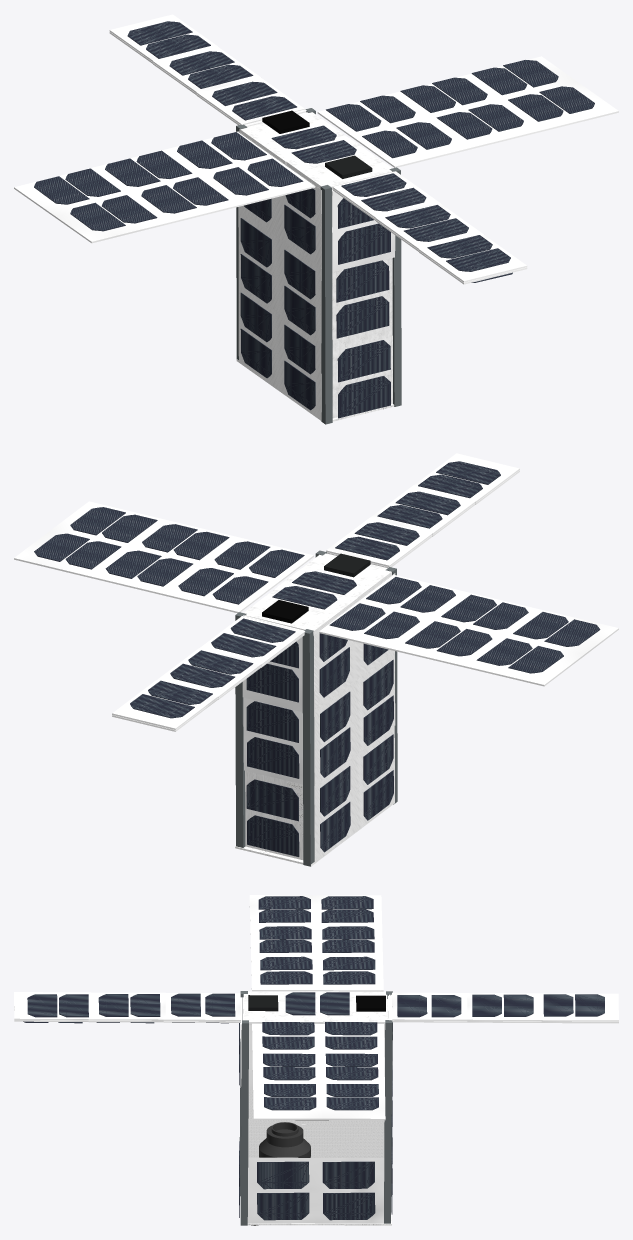
Rendered from 6Uedit.gltf.
3 renders of one model, top to bottom at view 1: azimuth 30°, elevation 25°; view 2: azimuth 150°, elevation 25°; view 3: azimuth 270°, elevation 25°, orthographic. The views are drawn at different scales.
Visible parts, largest first — view 1: CubePanel_8.026_Mesh.004, CubePanel_8.037_Mesh.004, CubePanel_014.002_Mesh.005, Box019.001_Mesh.016, CubePanel_014.008_Mesh.004, CubePanel_014.003_Mesh.005, CubePanel_014.004_Mesh.005, Anetanna_1.003_Mesh.004, SolarPanel_044.001_Mesh.243, SolarPanel_043.001_Mesh.244, Anetanna_1.002_Mesh.004, SolarPanel_043.001_Mesh.245 (+61 smaller); view 2: CubePanel_8.037_Mesh.004, CubePanel_8.026_Mesh.004, Box019.001_Mesh.017, CubePanel_014.002_Mesh.005, CubePanel_014.003_Mesh.005, Anetanna_1.002_Mesh.004, CubePanel_014.004_Mesh.005, SolarPanel_043.001_Mesh.223, SolarPanel_043.001_Mesh.222, SolarPanel_044.001_Mesh.221, SolarPanel_044.001_Mesh.222, Box019.001_Mesh.014 (+60 smaller); view 3: CubePanel_8.037_Mesh.004, CubePanel_8.026_Mesh.004, CubePanel_014.001_Mesh.005, CubePanel_014.002_Mesh.005, Box019.001_Mesh.015, Box019.001_Mesh.014, Main_Lens_Cylinder.008, SolarPanel_044.001_Mesh.199, SolarPanel_043.001_Mesh.199, SolarPanel_043.001_Mesh.200, SolarPanel_044.001_Mesh.198, Anetanna_1.002_Mesh.004 (+49 smaller).
Part boxes in pixels (left/top/right/bottom): CubePanel_8.026_Mesh.004: left=317, top=56, right=618, bottom=167; CubePanel_8.037_Mesh.004: left=14, top=131, right=315, bottom=243; CubePanel_014.002_Mesh.005: left=238, top=285, right=321, bottom=420; Box019.001_Mesh.016: left=320, top=185, right=332, bottom=424; CubePanel_014.008_Mesh.004: left=332, top=258, right=392, bottom=418; CubePanel_014.003_Mesh.005: left=238, top=209, right=321, bottom=342; CubePanel_014.004_Mesh.005: left=238, top=131, right=321, bottom=268; Anetanna_1.003_Mesh.004: left=286, top=138, right=392, bottom=189; SolarPanel_044.001_Mesh.243: left=336, top=296, right=389, bottom=338; SolarPanel_043.001_Mesh.244: left=336, top=260, right=389, bottom=302; Anetanna_1.002_Mesh.004: left=239, top=112, right=356, bottom=164; SolarPanel_043.001_Mesh.245: left=337, top=340, right=390, bottom=382; CubePanel_8.037_Mesh.004: left=319, top=574, right=618, bottom=686; CubePanel_8.026_Mesh.004: left=14, top=501, right=313, bottom=613; Box019.001_Mesh.017: left=302, top=629, right=314, bottom=866; CubePanel_014.002_Mesh.005: left=314, top=726, right=394, bottom=863; CubePanel_014.003_Mesh.005: left=314, top=651, right=395, bottom=785; Anetanna_1.002_Mesh.004: left=243, top=580, right=357, bottom=635; CubePanel_014.004_Mesh.005: left=313, top=573, right=395, bottom=711; SolarPanel_043.001_Mesh.223: left=246, top=779, right=298, bottom=821; SolarPanel_043.001_Mesh.222: left=246, top=701, right=298, bottom=742; SolarPanel_044.001_Mesh.221: left=247, top=737, right=299, bottom=778; SolarPanel_044.001_Mesh.222: left=247, top=815, right=299, bottom=856; Box019.001_Mesh.014: left=235, top=612, right=246, bottom=847; CubePanel_8.037_Mesh.004: left=249, top=895, right=383, bottom=991; CubePanel_8.026_Mesh.004: left=252, top=1023, right=385, bottom=1120; CubePanel_014.001_Mesh.005: left=247, top=1157, right=384, bottom=1223; CubePanel_014.002_Mesh.005: left=248, top=1124, right=384, bottom=1157; Box019.001_Mesh.015: left=240, top=1020, right=248, bottom=1225; Box019.001_Mesh.014: left=384, top=1020, right=392, bottom=1223; Main_Lens_Cylinder.008: left=259, top=1122, right=310, bottom=1157; SolarPanel_044.001_Mesh.199: left=322, top=1161, right=374, bottom=1188; SolarPanel_043.001_Mesh.199: left=257, top=1192, right=309, bottom=1220; SolarPanel_043.001_Mesh.200: left=323, top=1192, right=375, bottom=1220; SolarPanel_044.001_Mesh.198: left=257, top=1161, right=309, bottom=1189; Anetanna_1.002_Mesh.004: left=308, top=991, right=387, bottom=1022.
Size of the model in its own units: 0.6422 by 0.2885 by 0.7335.
Materials: 12 (5 with a texture image).
